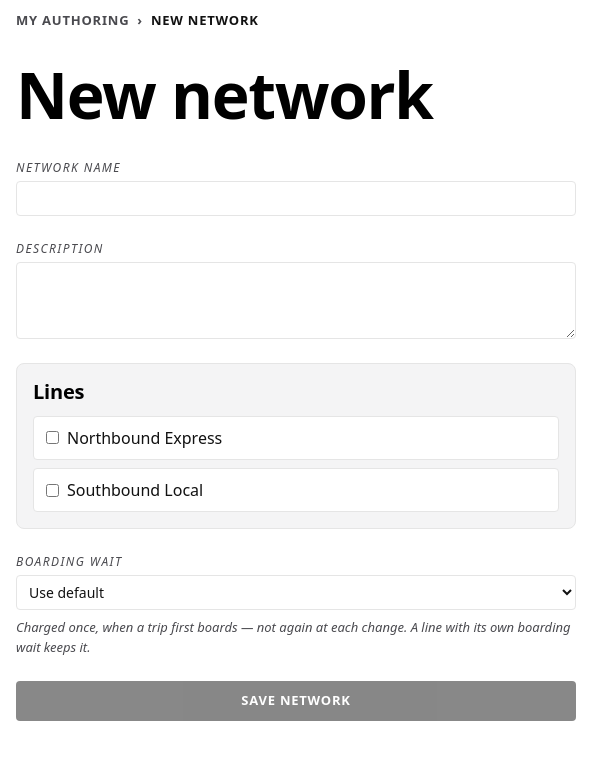
Test: ScenarioBuilderView › says in plain words why the save failed and does not navigate
The width and height of the screenshot is (593, 779).
Type "CA HSR" into the field with test id "scenario-name".
click(296, 198); type("CA HSR")  # box [16,180,576,216]
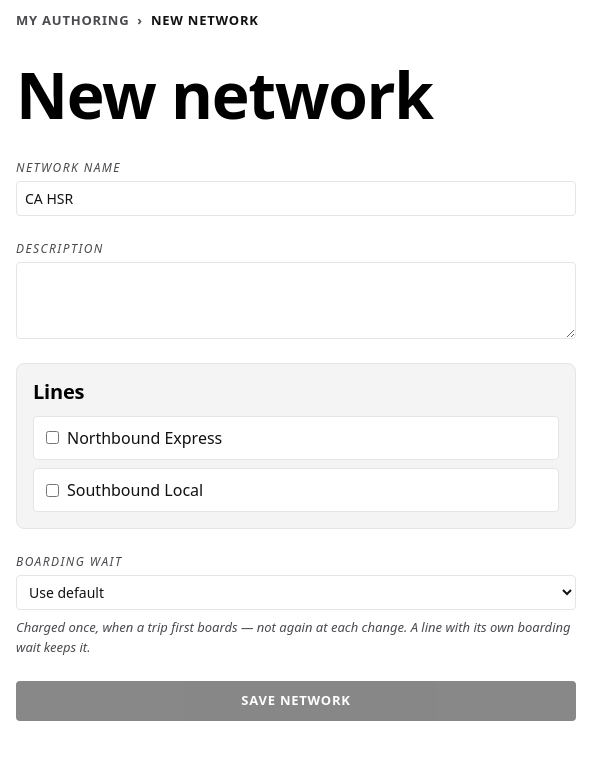
Click the checkbox with test id "service-checkbox-svc1".
click(52, 438)  # box [46,431,59,444]
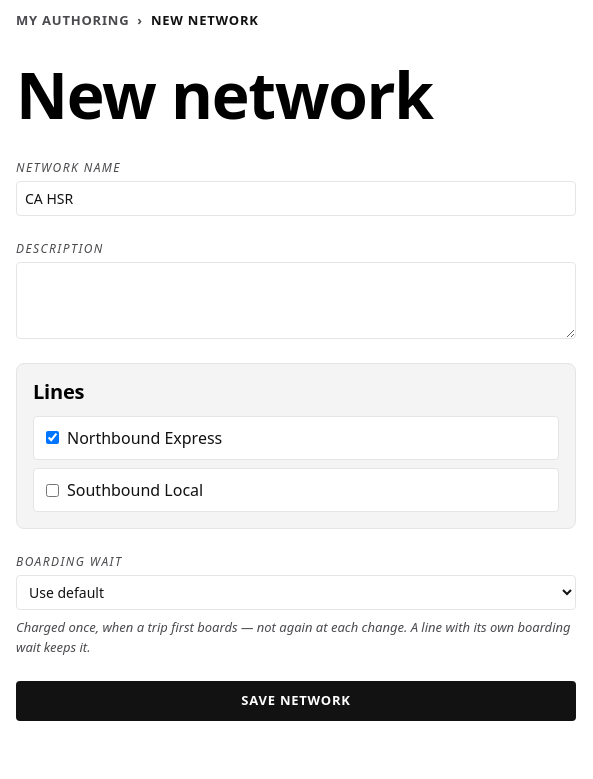
Click the checkbox with test id "service-checkbox-svc2".
click(52, 490)  # box [46,484,59,497]
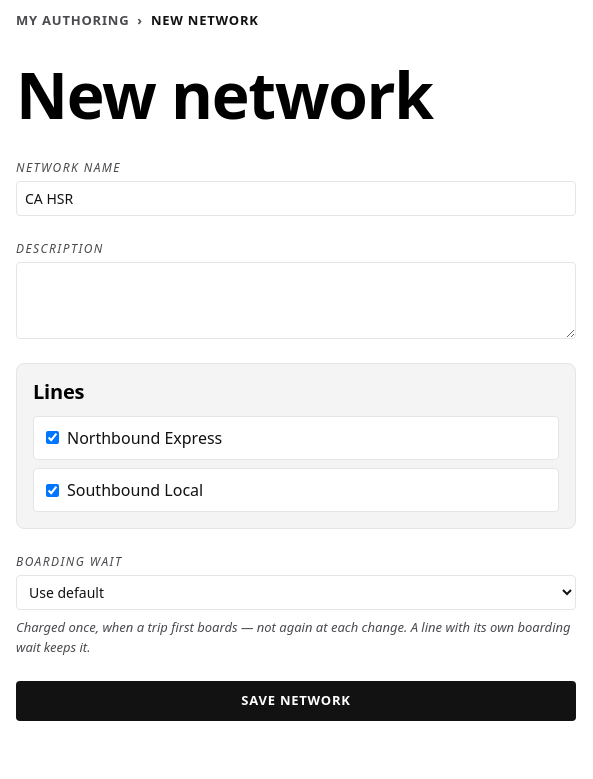
Submit the form
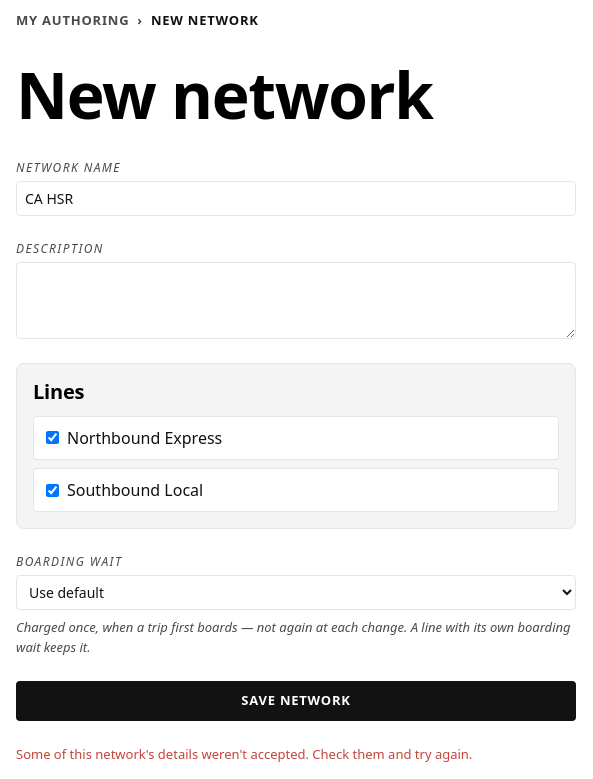
Check: the message with test id "submit-error" reads "Some of this network's details weren't accepted. Check them and try again.", box [16,745,472,763]
